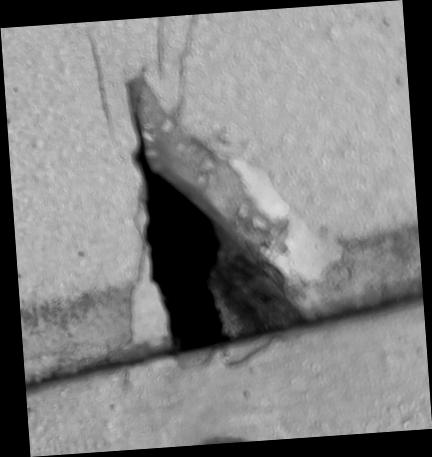crack: (1, 0, 432, 456)
